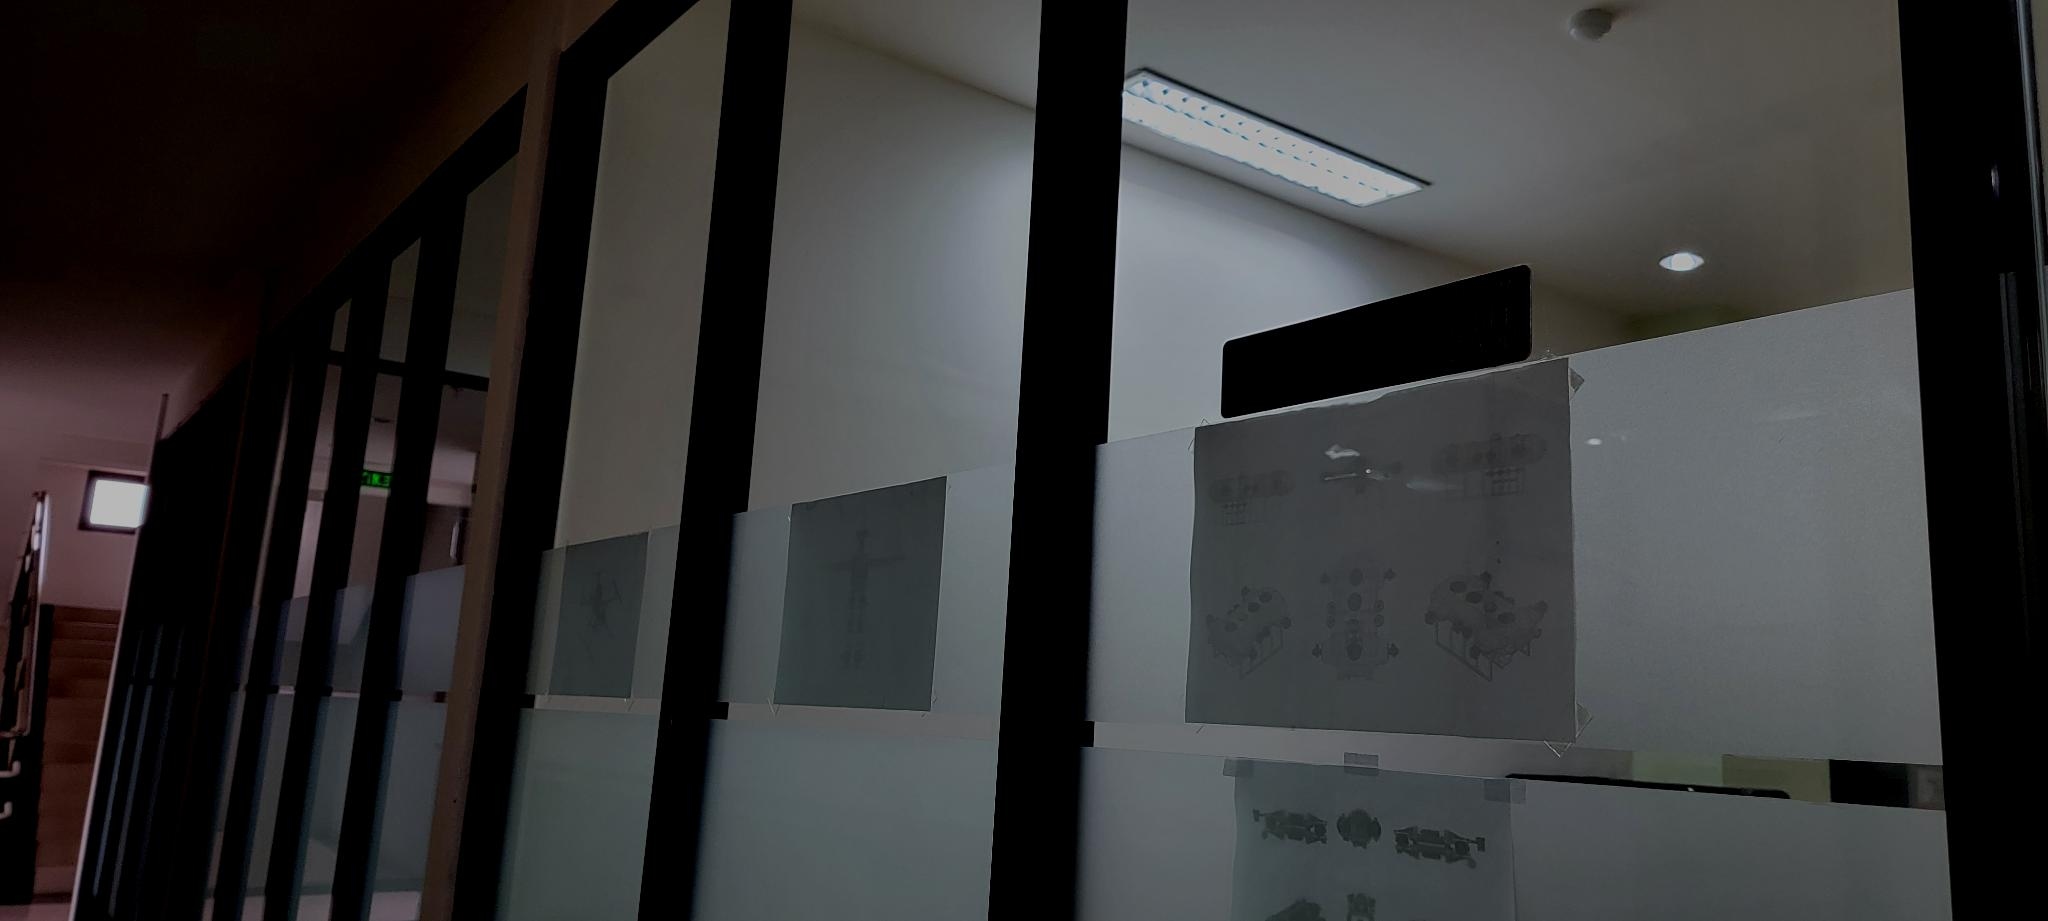plate: (1220, 260, 1536, 423)
